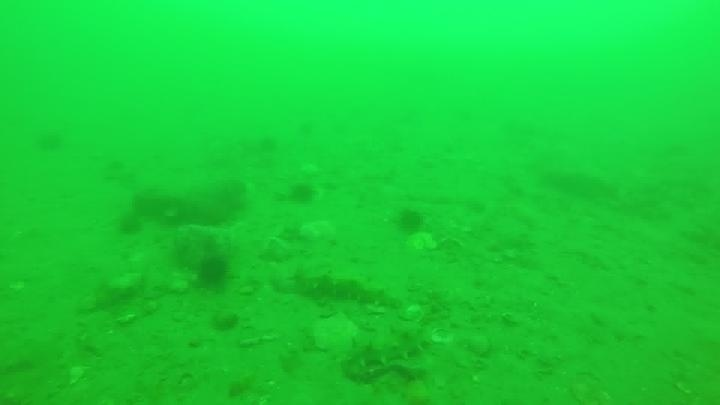echinus: (194, 253, 232, 290), (394, 205, 427, 235), (34, 126, 66, 155), (287, 180, 318, 206), (116, 211, 145, 238)
holothurian: (339, 322, 438, 379), (288, 268, 401, 310)
scallop: (405, 230, 440, 255)
